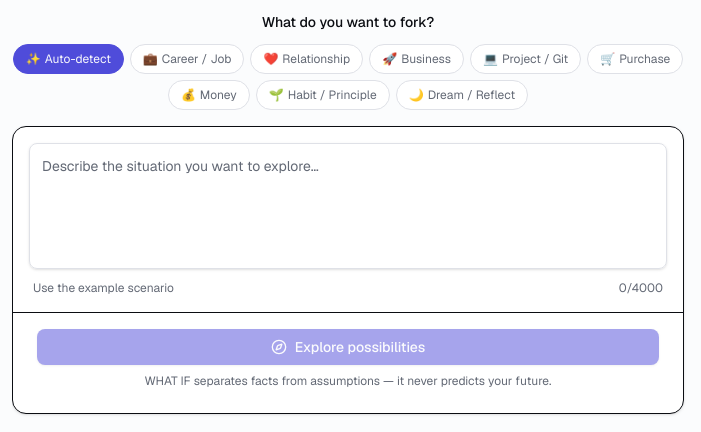
Test: ScenarioPrompt › keeps explore disabled until input reaches minimum length
expect the button "Explore possibilities" is disabled: met, box [37, 329, 659, 365]
Step 1. Type "too short" into the text box named "describe your situation" → (348, 206), box [29, 143, 667, 269]
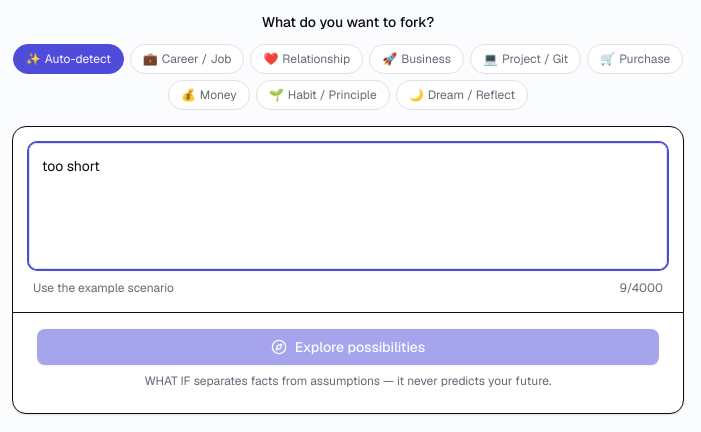
expect the button "Explore possibilities" is disabled: met, box [37, 329, 659, 365]
Step 2. Type " — should I take this offer?" into the text box named "describe your situation" → (348, 206), box [29, 143, 667, 269]
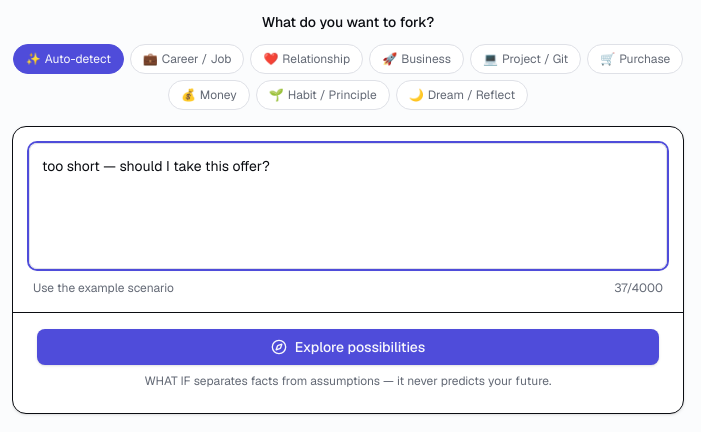
expect the button "Explore possibilities" is enabled: met, box [37, 329, 659, 365]
